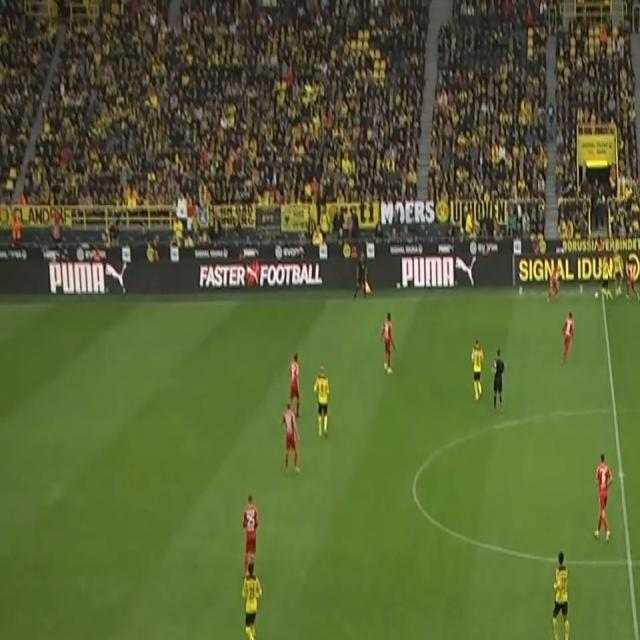ball: (592, 290, 598, 300)
